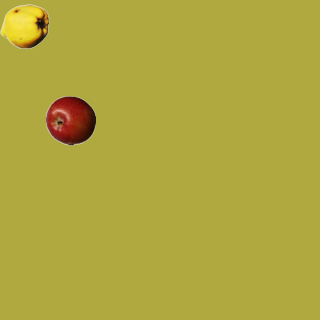Apple Braeburn: (45, 95, 95, 145)
Quince: (0, 1, 49, 51)
